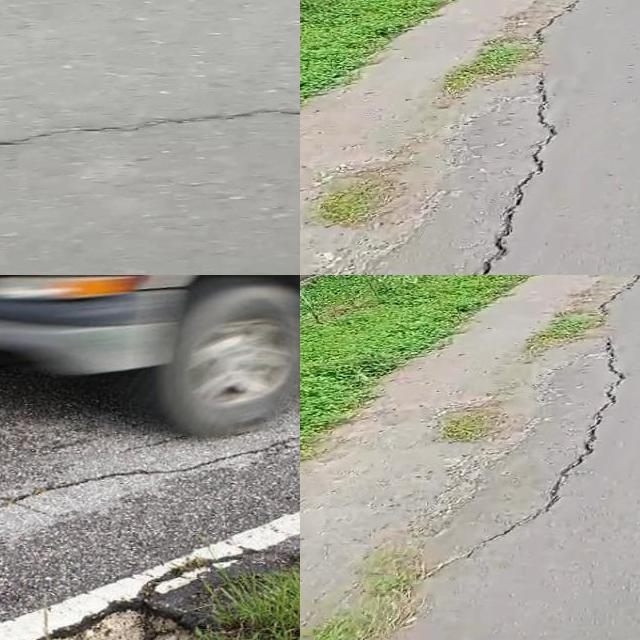Melintang: (0, 90, 300, 159)
Memanjang: (421, 275, 640, 560), (445, 0, 605, 275)
Pinggir: (12, 573, 300, 640)
